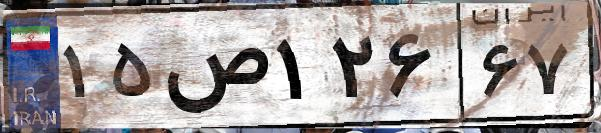1: (270, 28, 330, 110), (57, 26, 110, 100)
2: (330, 28, 385, 110)
5: (110, 28, 158, 98)
6: (385, 28, 445, 110), (475, 38, 525, 113)
7: (525, 38, 570, 115)
ص: (158, 20, 270, 120)
